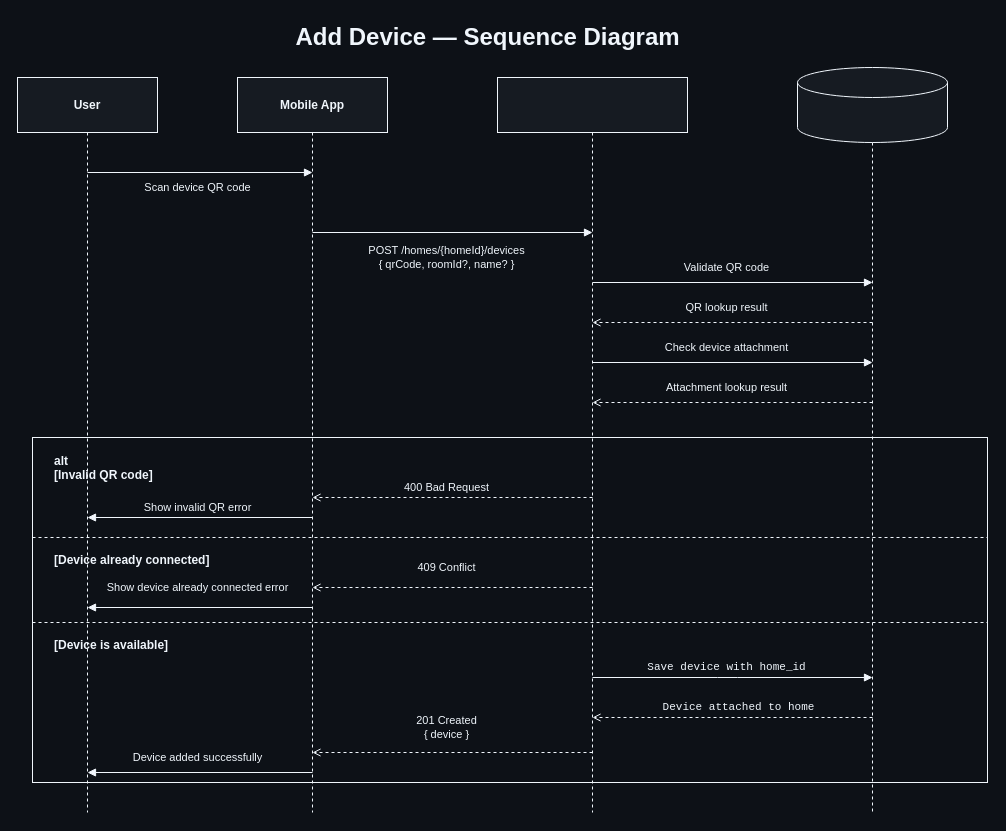
Image size: 1006x831. Some labels were removed from this diagram. Here are the shapes that lost their labels. From the top down, the centre of each, then its label:
point (592, 104): Smart Home Backend
point (872, 104): Database (PostgreSQL)
